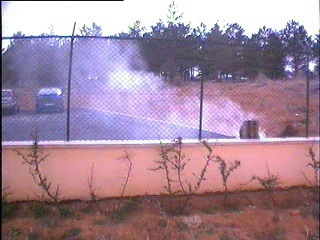smoke: (79, 37, 268, 138)
